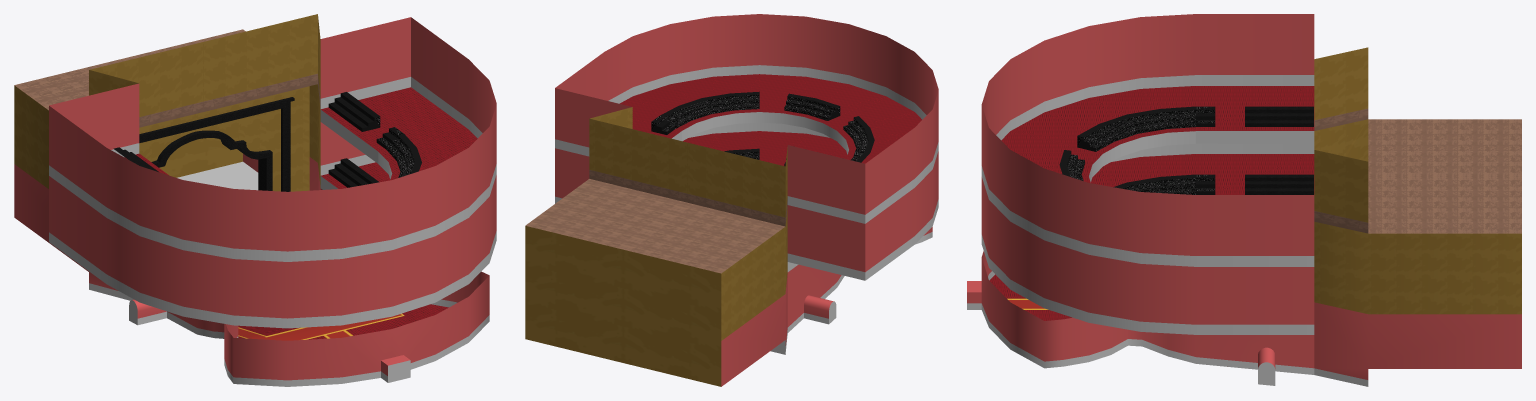
The model's file is Mafia_HQ.FBX.
3 renders of one model, left to right at view 1: azimuth 30°, elevation 25°; view 2: azimuth 150°, elevation 25°; view 3: azimuth 270°, elevation 25°, orthographic. The views are drawn at different scales.
Visible parts, largest first — view 1: mafia_theatre; view 2: mafia_theatre; view 3: mafia_theatre.
Part boxes in pixels (x1,y1,x2,y2): mafia_theatre: (14,14,496,386); mafia_theatre: (525,14,938,386); mafia_theatre: (967,14,1521,386).
Bounding box in the file's own units: 4317 × 2505 × 5590.
